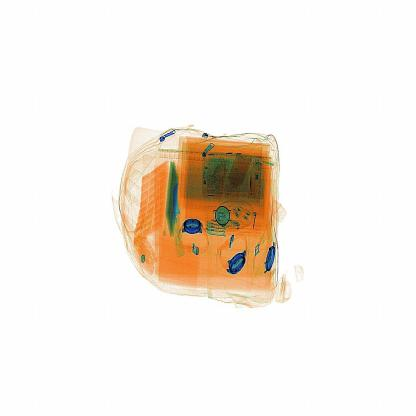wrench: (159, 166, 193, 262)
